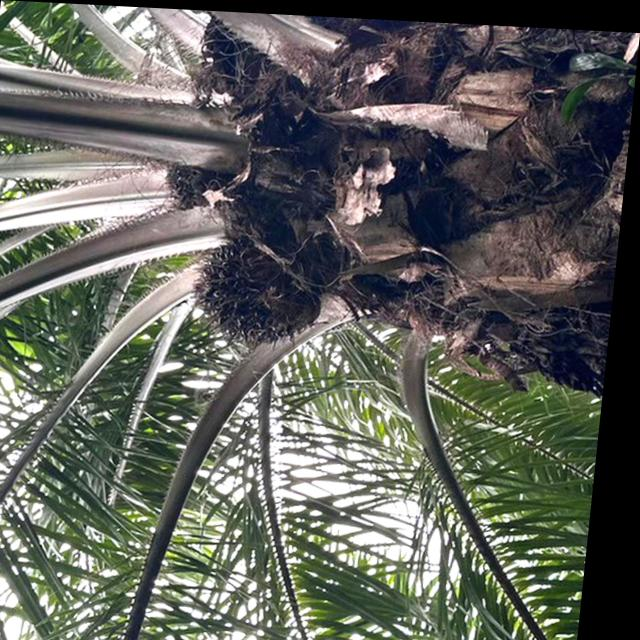unripe: (186, 232, 336, 359), (192, 15, 287, 117), (161, 152, 233, 214)
